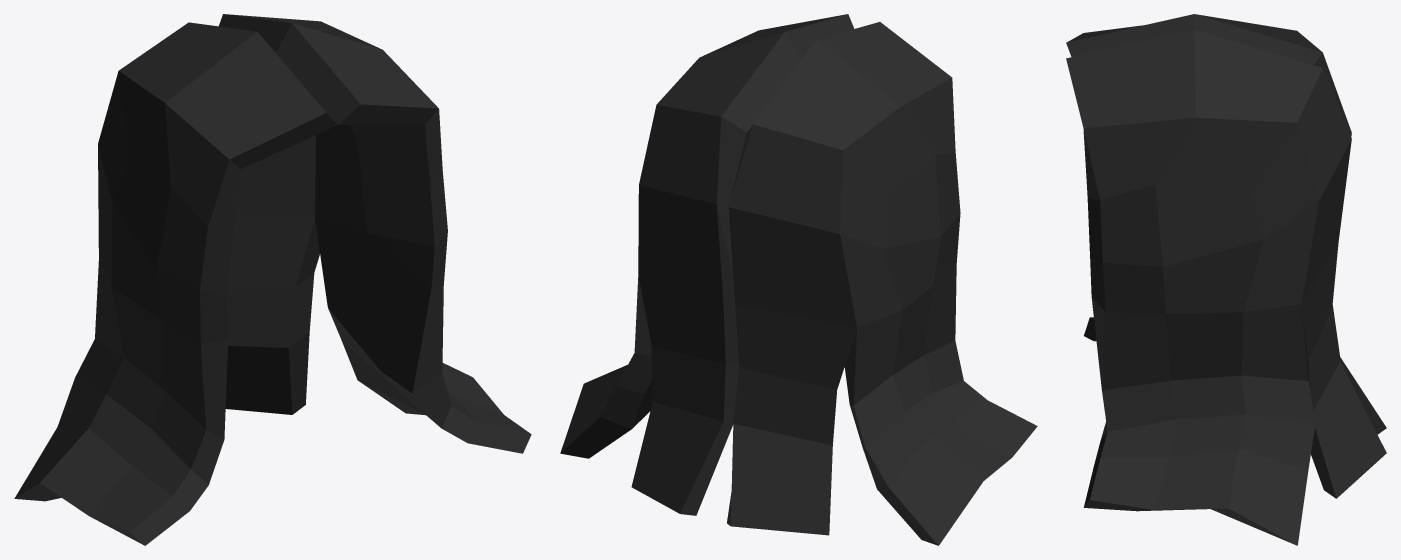
Rendered from Hairstyle D.fbx.
3 renders of one model, left to right at view 1: azimuth 30°, elevation 25°; view 2: azimuth 150°, elevation 25°; view 3: azimuth 270°, elevation 25°, orthographic. The views are drawn at different scales.
Visible parts, largest first — view 1: Hairstyle C.001; view 2: Hairstyle C.001; view 3: Hairstyle C.001.
Boxes of the visible parts, box(x1,y1,x2,y2) form: Hairstyle C.001: box(14, 14, 531, 545); Hairstyle C.001: box(560, 14, 1037, 545); Hairstyle C.001: box(1066, 14, 1386, 545).
Bounding box in the file's own units: 36.75 × 37.78 × 25.28.
